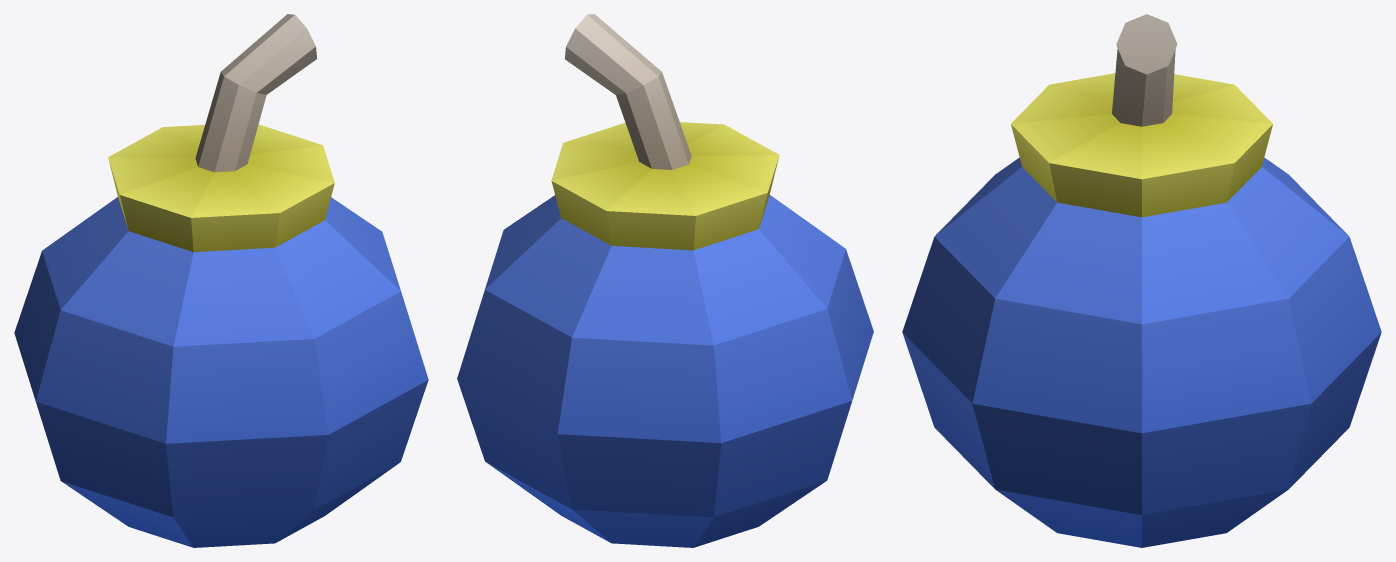
The model's file is bomb.fbx.
The picture shows the model from 3 angles, left to right: view 1: azimuth 30°, elevation 25°; view 2: azimuth 150°, elevation 25°; view 3: azimuth 270°, elevation 25°; orthographic projection. The views are drawn at different scales.
Visible parts, largest first — view 1: bomb; view 2: bomb; view 3: bomb.
Boxes of the visible parts, box(x1,y1,x2,y2) form: bomb: box(14, 14, 428, 547); bomb: box(457, 14, 873, 547); bomb: box(902, 14, 1381, 547).
Size of the model in its own units: 23.33 by 29.54 by 23.33.
